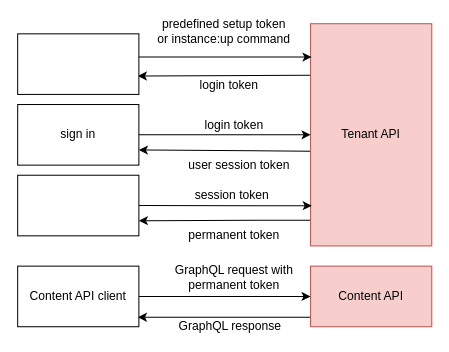
Image size: 449x352. Some labels were removed from this diagram. The shapes that lost their labels are listed below. From the top down, each one's centre as x and y in pixels, then its label:
At point (78, 63): "first time setup".
At point (78, 205): "create permanent API key".
